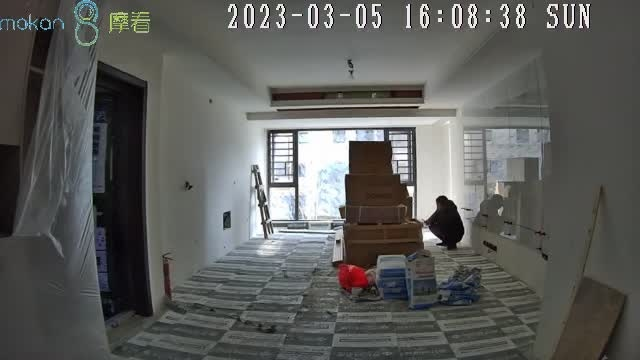people: (424, 196, 465, 249)
window: (269, 130, 416, 218)
